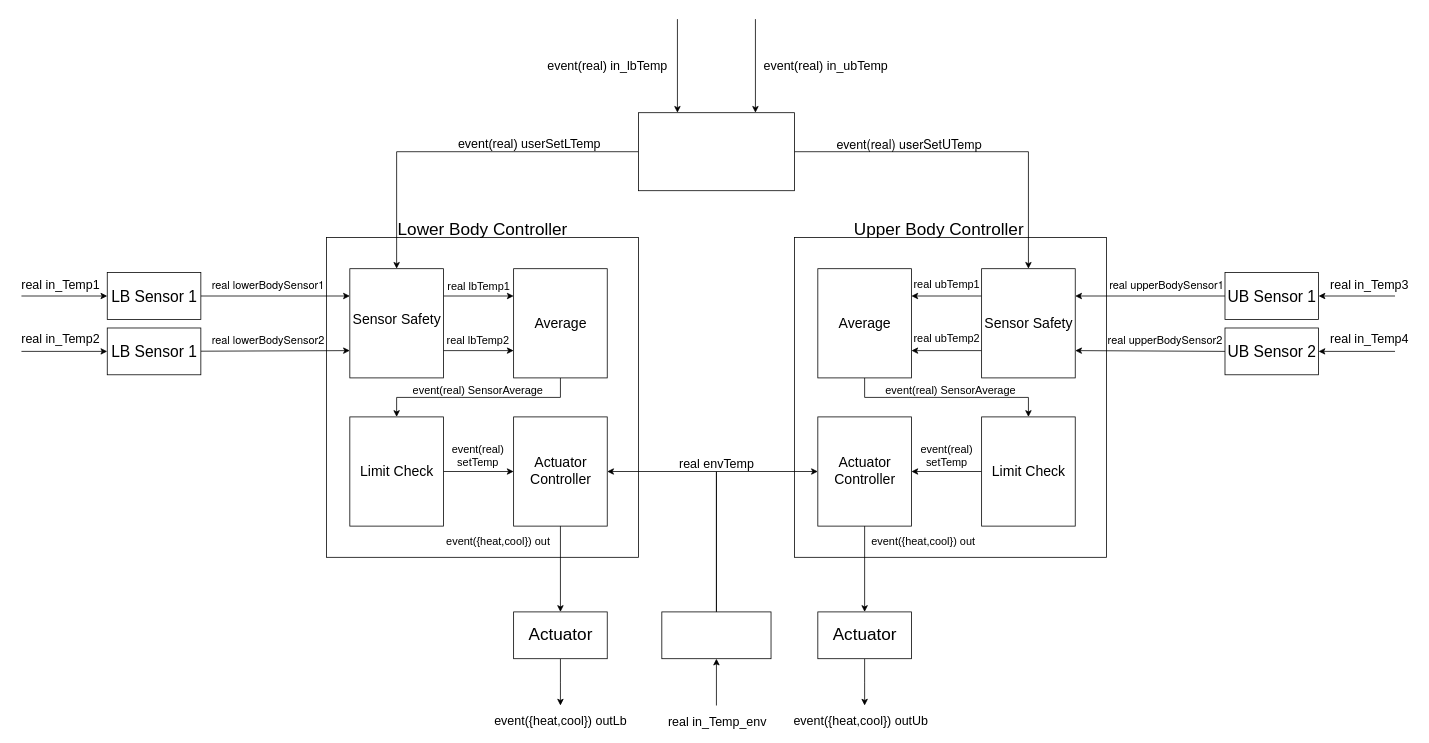
Some shapes in this 1429 by 743 pixel diagram are drawn without their labels. The centre of each missing label's shape, as x and y in pixels:
"Env Sensor" belongs at pixel 716 635.
"User Input" belongs at pixel 716 151.
